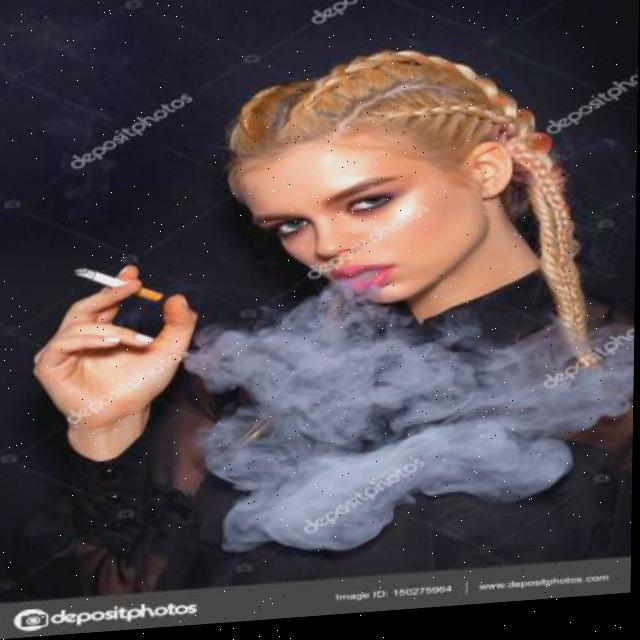cigarette: (72, 262, 165, 308)
